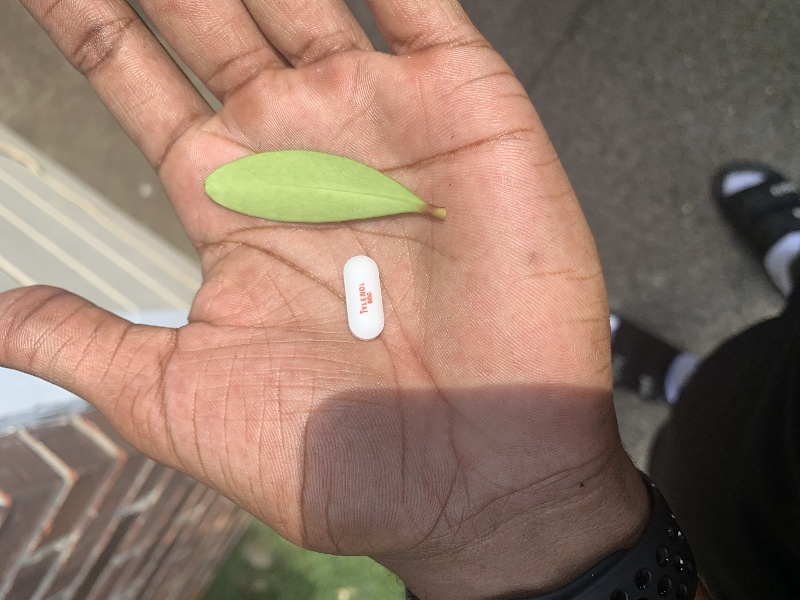Tylenol: (339, 252, 390, 345)
